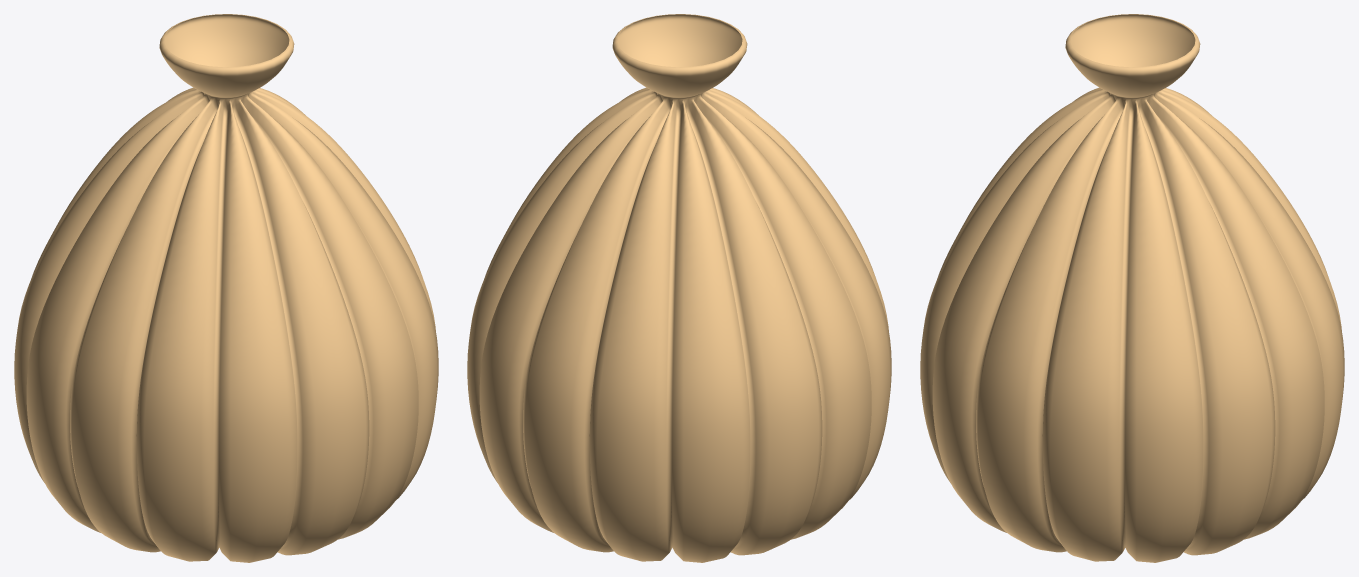
Rendered from Vase.fbx.
3 views of the same model, side by side, from view 1: azimuth 30°, elevation 25°; view 2: azimuth 150°, elevation 25°; view 3: azimuth 270°, elevation 25° (orthographic).
Visible parts, largest first — view 1: Line041; view 2: Line041; view 3: Line041.
Boxes of the visible parts, x1,y1,x2,y2 form: Line041: (14, 14, 438, 562); Line041: (467, 14, 891, 562); Line041: (920, 14, 1344, 562).
Size of the model in its own units: 16.18 by 19.85 by 16.18.
